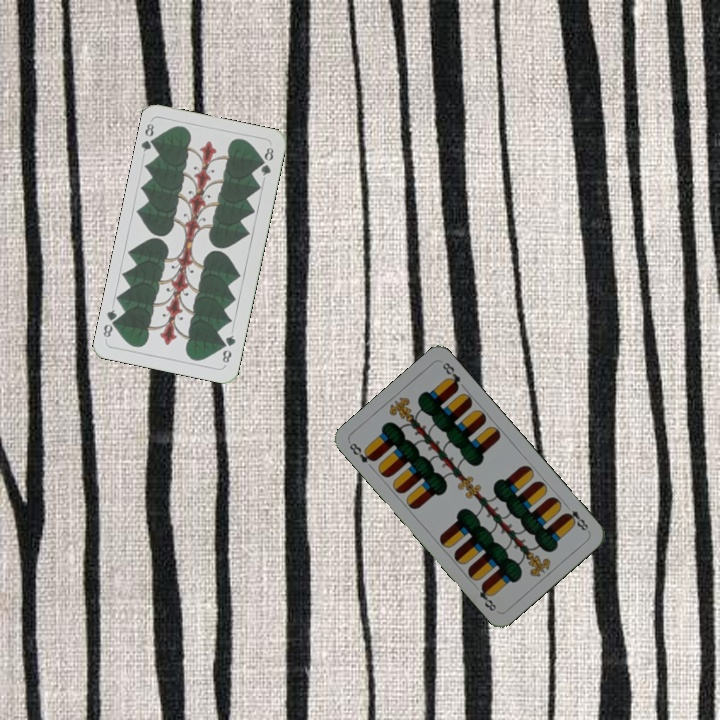E8: (345, 439, 378, 472), (560, 500, 592, 534)
G8: (138, 119, 160, 154), (218, 331, 238, 366)
